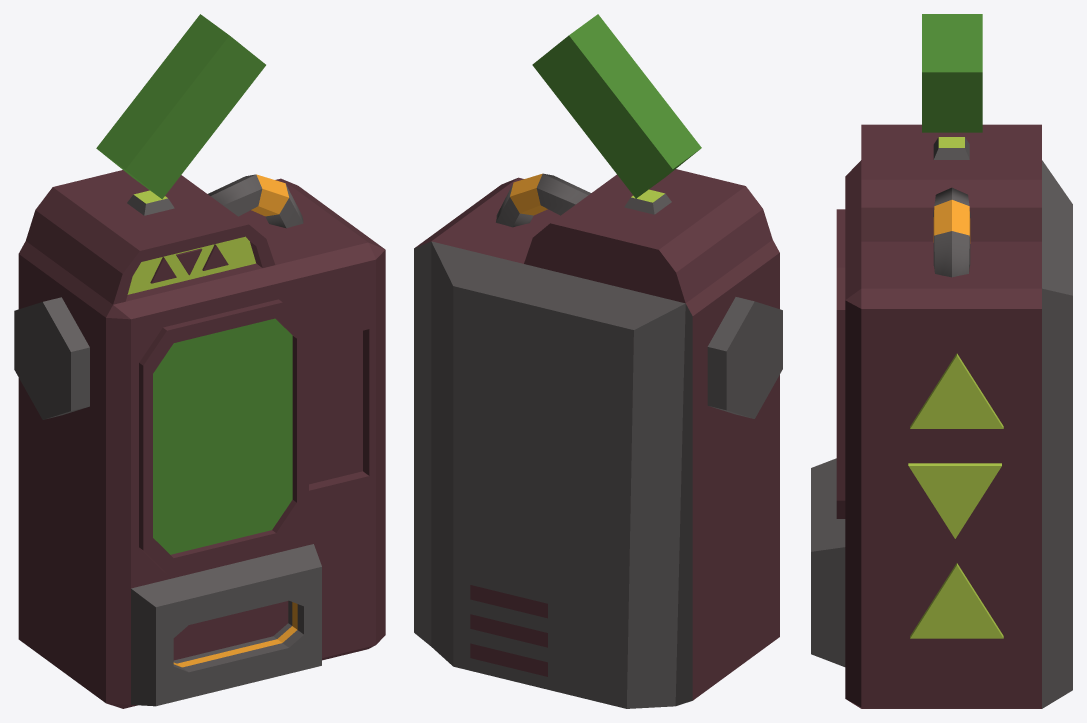
The model's file is scifi-vending-machine-soda.fbx.
3 renders of one model, left to right at view 1: azimuth 30°, elevation 25°; view 2: azimuth 150°, elevation 25°; view 3: azimuth 270°, elevation 25°, orthographic. The views are drawn at different scales.
Parts seen in each view (by area): view 1: scifi-vending-machine-soda; view 2: scifi-vending-machine-soda; view 3: scifi-vending-machine-soda.
Boxes of the visible parts, <box> form: scifi-vending-machine-soda: <box>14,14,385,708</box>; scifi-vending-machine-soda: <box>414,14,782,708</box>; scifi-vending-machine-soda: <box>811,14,1072,708</box>.
Size of the model in its own units: 1.5 by 2.92 by 1.08.
